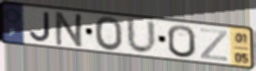J: (28, 11, 52, 43)
N: (54, 10, 86, 50)
O: (93, 15, 125, 53), (166, 24, 198, 60)
U: (125, 17, 159, 57)
Z: (199, 26, 229, 63)
